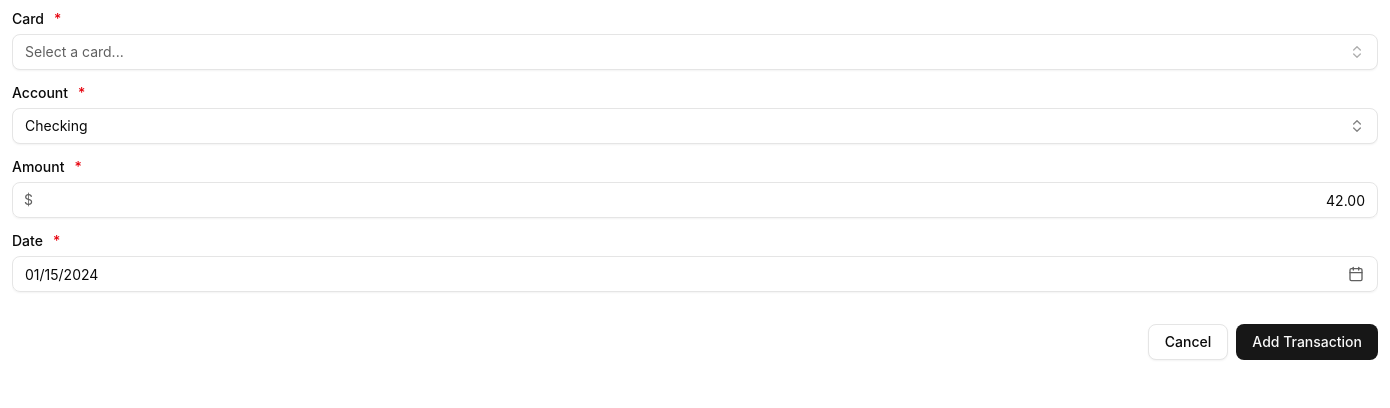
Test: ReceiptTransactionForm › blocks submit when Card is empty
Click the button "Add Transaction": click(1307, 342) 1236,324 -> 1378,360
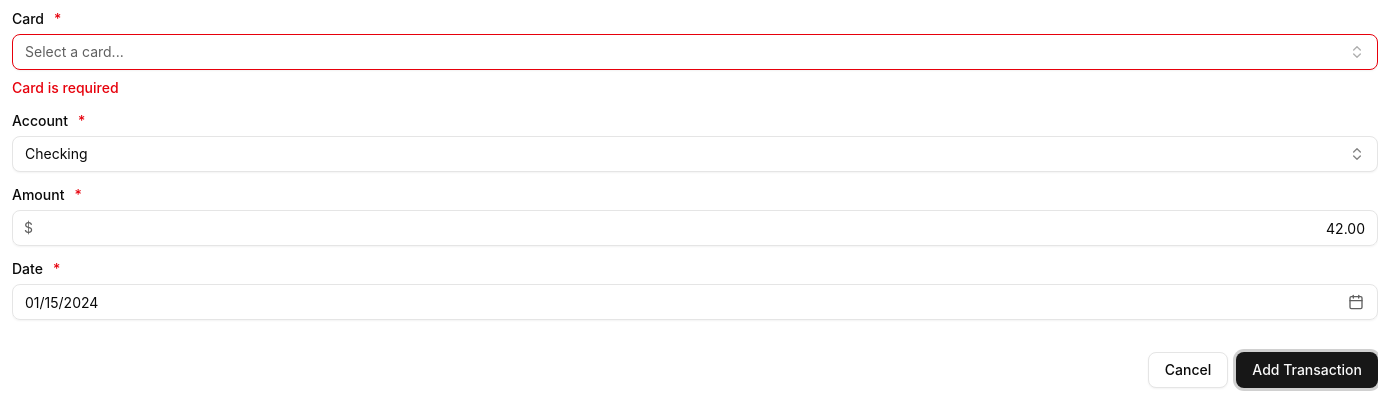
expect the text "Card is required" is shown: met, box 12,79 -> 119,96
